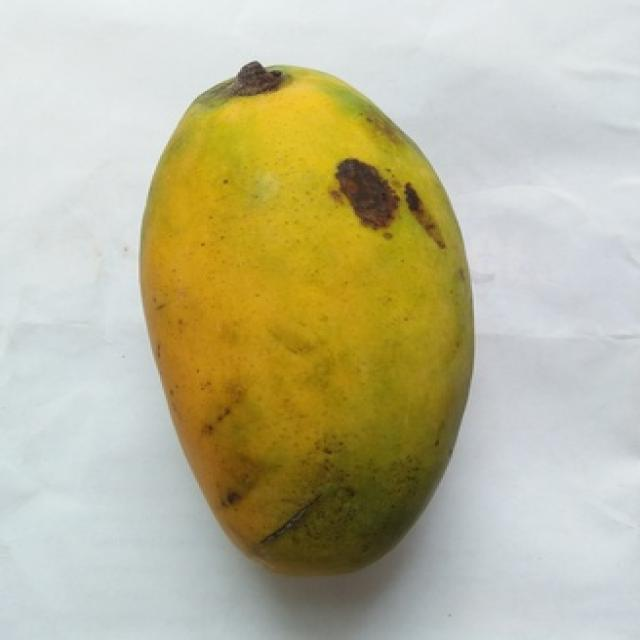Mango: (140, 62, 470, 570)
